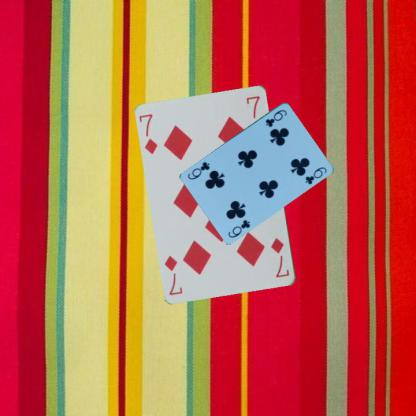6c: (226, 216, 252, 238), (263, 107, 288, 128)
7d: (137, 112, 159, 156), (268, 236, 290, 279)
